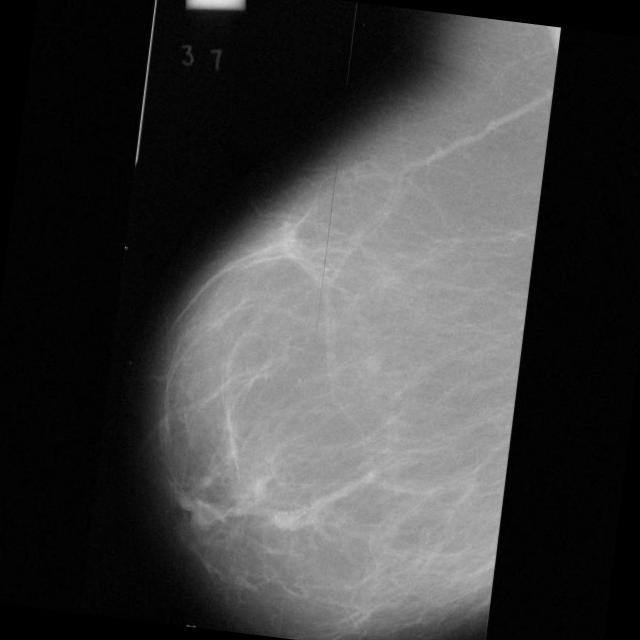MISC: (264, 491, 320, 546)
